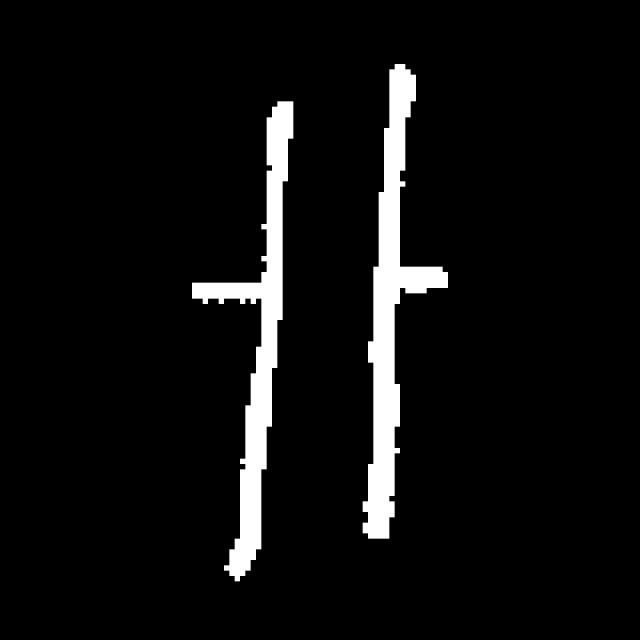capacitor: (218, 56, 414, 596)
